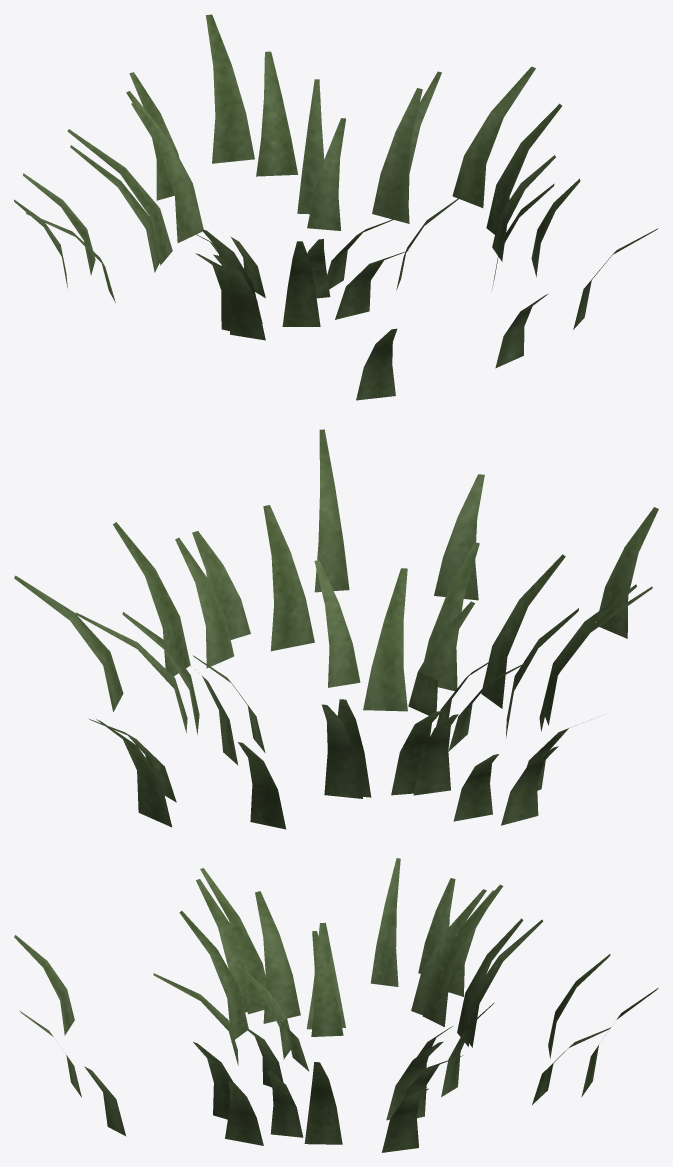
Rendered from grass_tuft_2.glb.
The picture shows the model from 3 angles, top to bottom: view 1: azimuth 30°, elevation 25°; view 2: azimuth 150°, elevation 25°; view 3: azimuth 270°, elevation 25°; orthographic projection. The views are drawn at different scales.
Parts seen in each view (by area): view 1: grass_tuft_2; view 2: grass_tuft_2; view 3: grass_tuft_2.
Part boxes in pixels (bbox=[...]): grass_tuft_2: bbox=[14, 14, 658, 400]; grass_tuft_2: bbox=[14, 429, 658, 829]; grass_tuft_2: bbox=[14, 858, 658, 1152].
Size of the model in its own units: 1.01 by 0.2198 by 1.16.
Materials: 1 (1 with a texture image).
